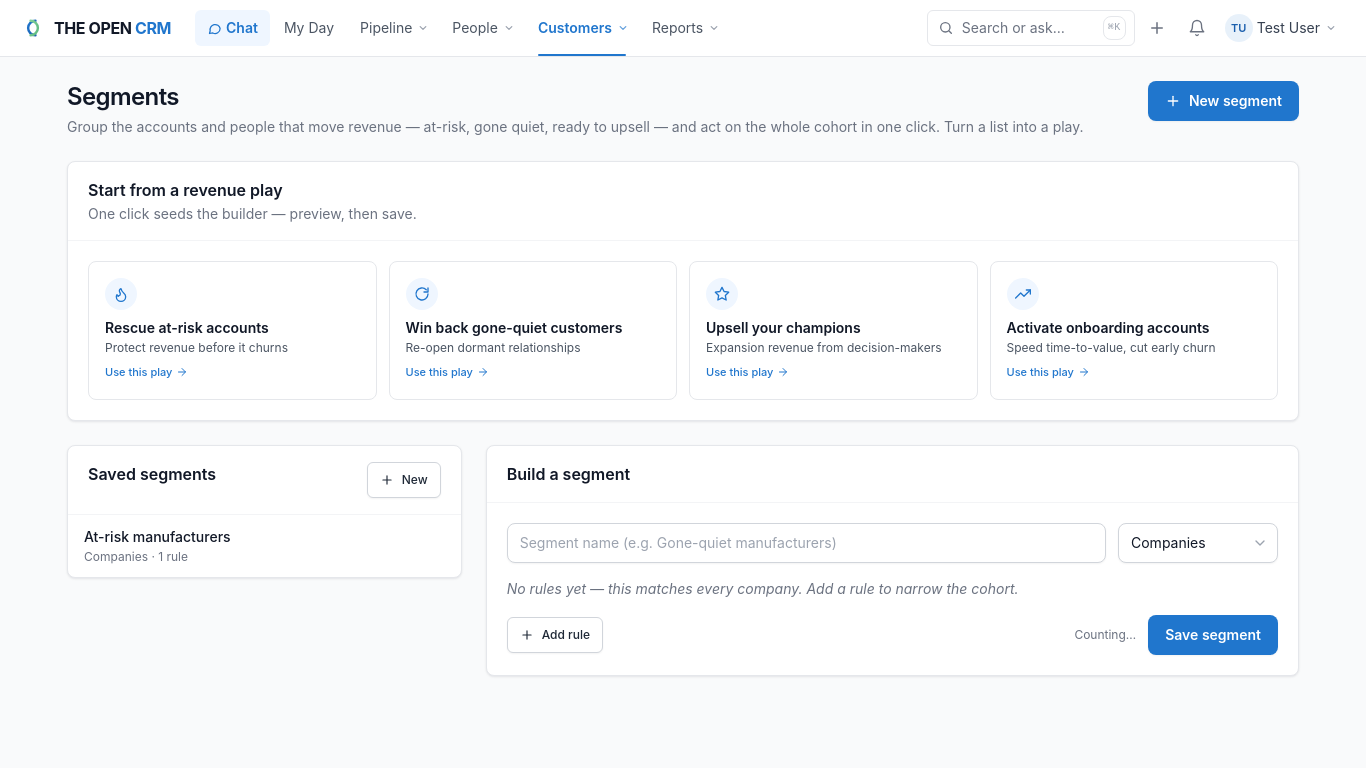
Scenario: Segments › loads and renders a saved segment on select
Note: Segment appears in the saved list.
Click the text "At-risk manufacturers": (157, 536) [84,528,231,544]
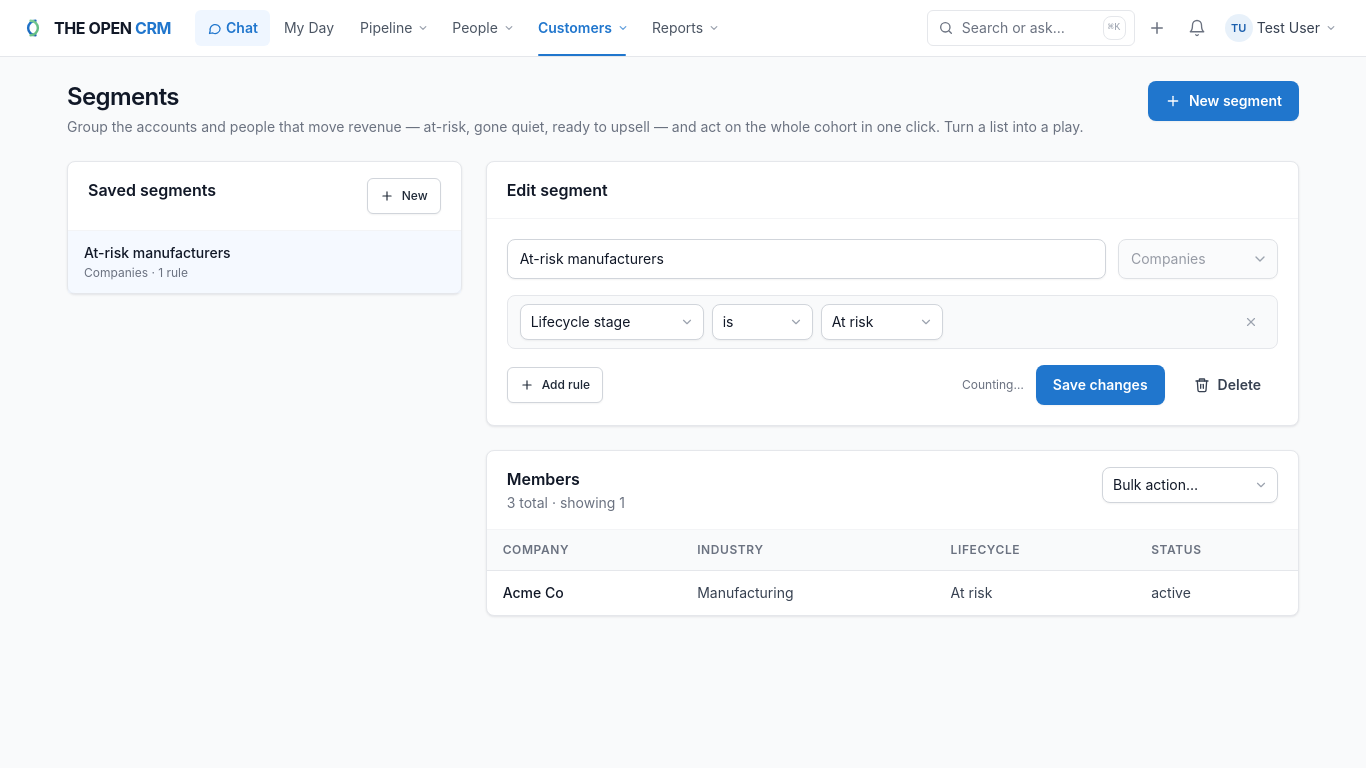
Expected: the text "Acme Co" is shown, [487,570,681,615]
